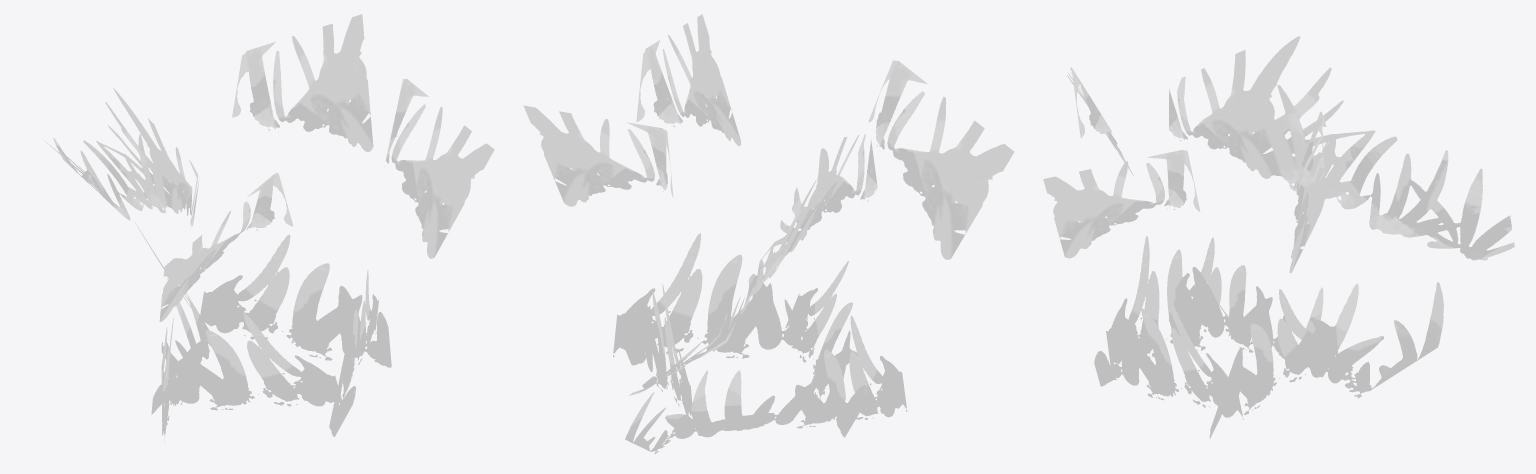
File: FlowerMeadow1.fbx
The picture shows the model from 3 angles, left to right: view 1: azimuth 30°, elevation 25°; view 2: azimuth 150°, elevation 25°; view 3: azimuth 270°, elevation 25°; orthographic projection. The views are drawn at different scales.
Parts seen in each view (by area): view 1: FlowerMeadow1; view 2: FlowerMeadow1; view 3: FlowerMeadow1.
Boxes of the visible parts, <box> form: FlowerMeadow1: <box>44,14,494,442</box>; FlowerMeadow1: <box>523,14,1014,453</box>; FlowerMeadow1: <box>1043,36,1514,438</box>.
Bounding box in the file's own units: 47.09 × 45.68 × 59.37.
